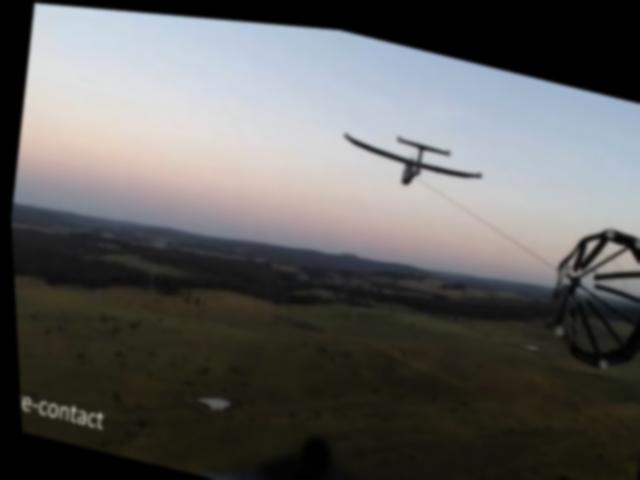uav: (333, 109, 492, 200)
